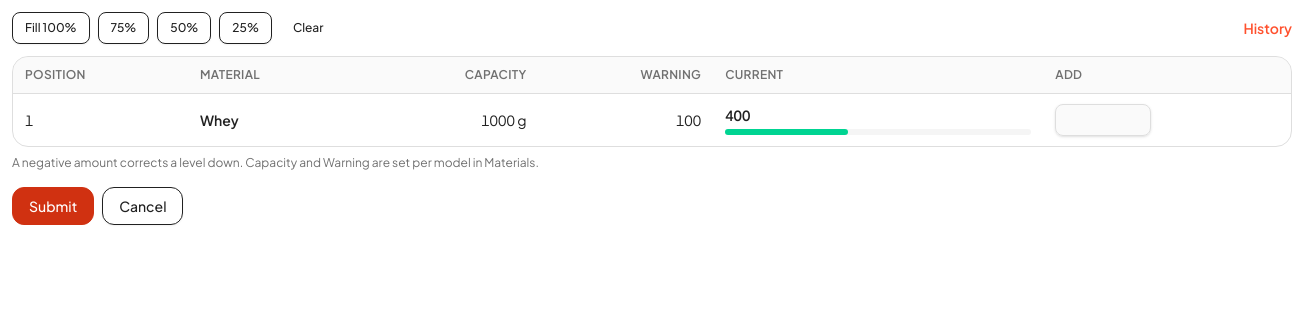
Test: MachineStockTab › on stale stock, shows the message, reloads levels and keeps what was typed
Check: the row with test id "row-slot-s1" is shown, box top-left (13, 94), bottom-right (1291, 146)
Type "500" into the field with test id "add-s1" at (1103, 120), box top-left (1055, 104), bottom-right (1151, 136)
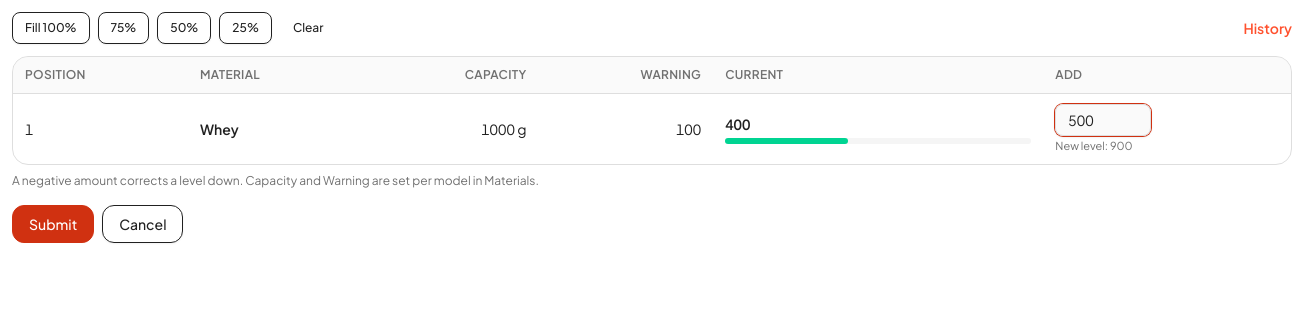
Click the button with test id "button-submit-stock" at (53, 224), box top-left (12, 205), bottom-right (94, 243)
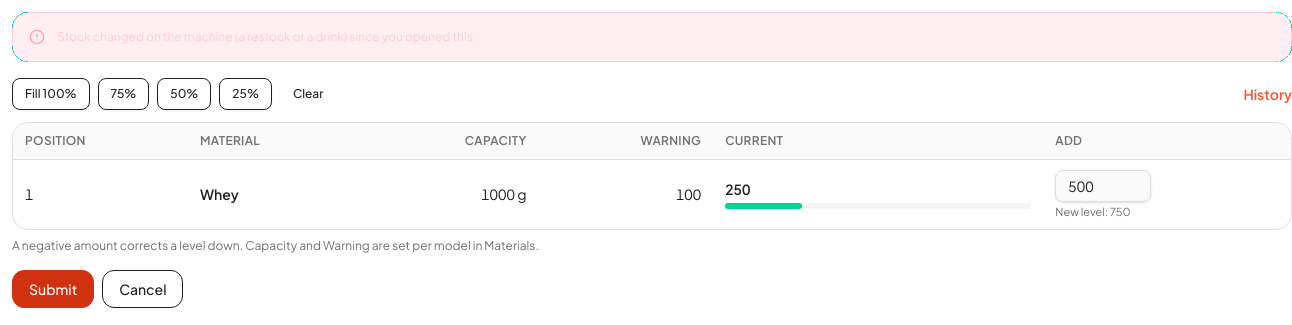
Check: the message with test id "stock-error" shows "Stock changed on the machine", box top-left (57, 29), bottom-right (476, 44)
Check: the element with test id "current-s1" reads "250", box top-left (725, 180), bottom-right (750, 198)
Check: the text with test id "new-level-s1" reads "New level: 750", box top-left (1055, 204), bottom-right (1130, 218)
